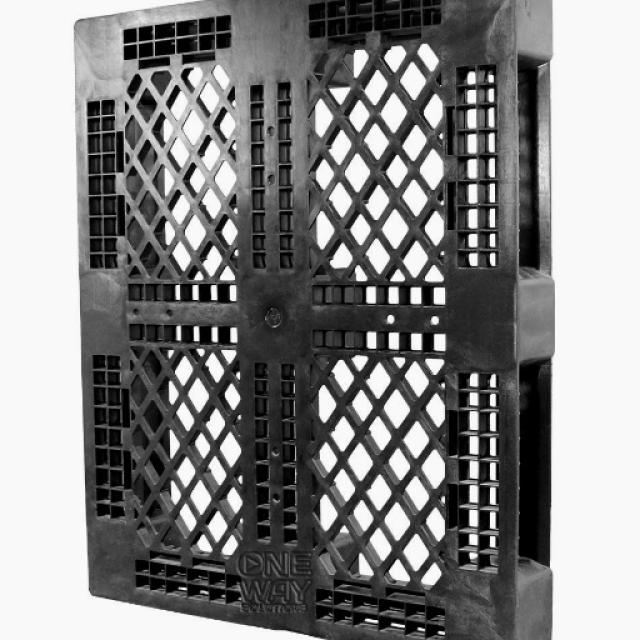non-igps: (62, 0, 572, 640)
